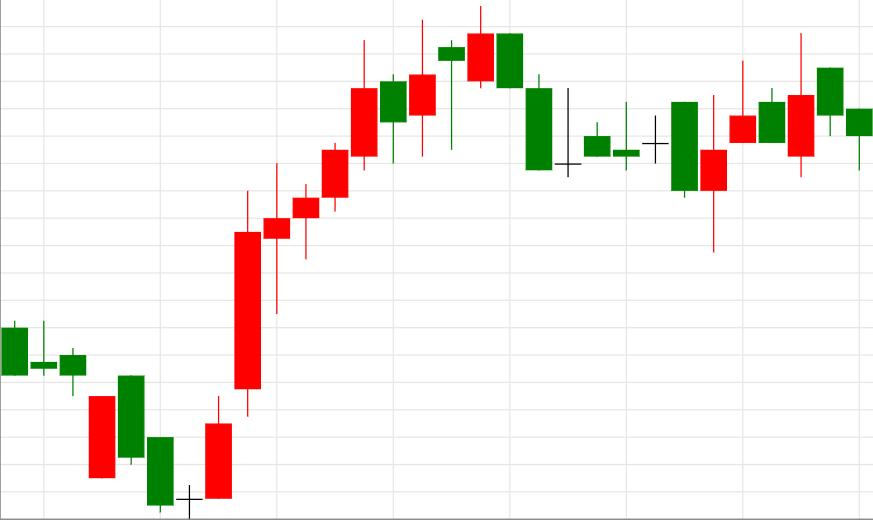morning_star_rise: (1, 319, 232, 518)
